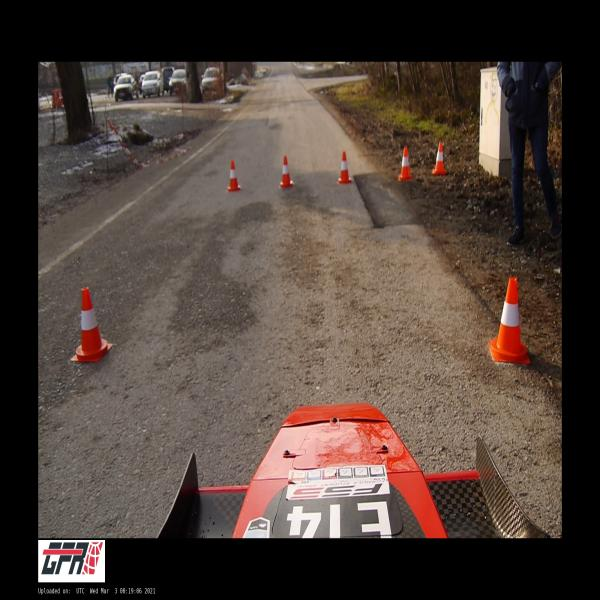orange_cone: (489, 277, 530, 364), (71, 288, 112, 360), (398, 147, 412, 181), (338, 151, 352, 184), (432, 142, 446, 174), (227, 161, 241, 191), (280, 156, 294, 186)
